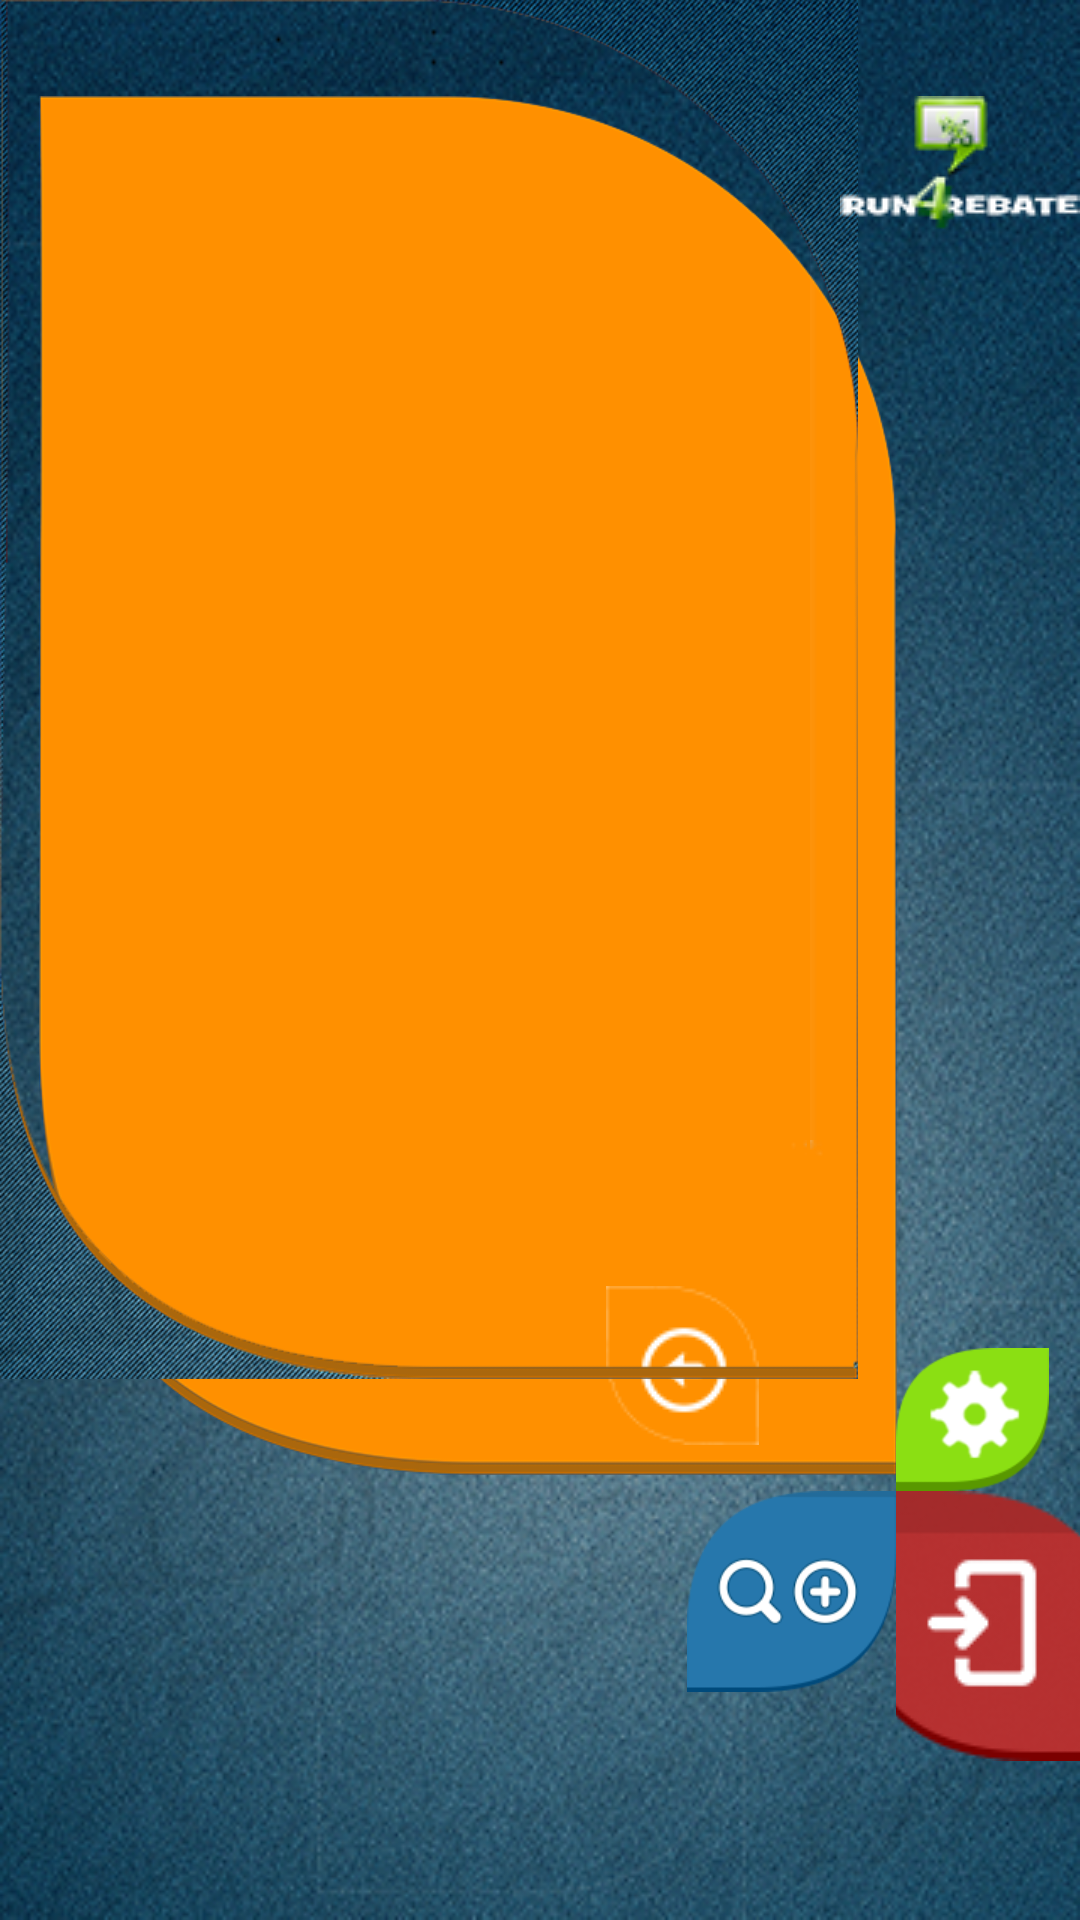

Icon click points for this 1080px×1920px phone screenshot, format point (x, y):
add search: point (791, 1591)
arrow back: point (682, 1365)
settings: point (972, 1419)
